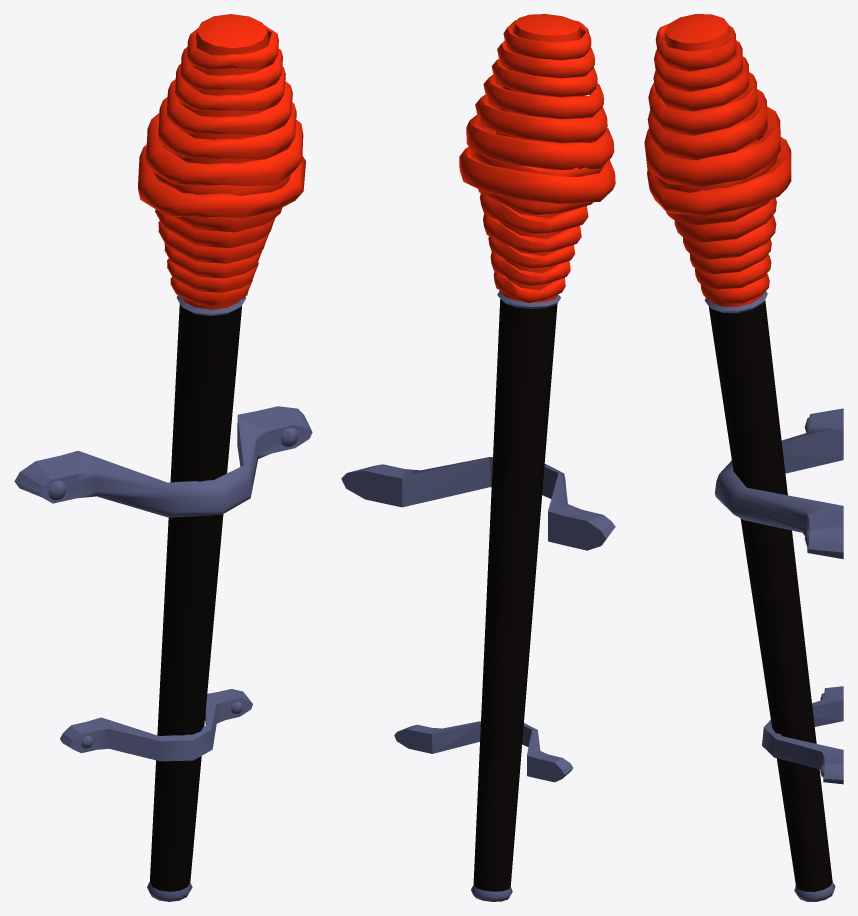
File: TorchWall_10.fbx
The picture shows the model from 3 angles, left to right: view 1: azimuth 30°, elevation 25°; view 2: azimuth 150°, elevation 25°; view 3: azimuth 270°, elevation 25°; orthographic projection. The views are drawn at different scales.
Visible parts, largest first — view 1: TorchWall_10; view 2: TorchWall_10; view 3: TorchWall_10.
Part boxes in pixels (x1,y1,x2,y2): TorchWall_10: [14, 14, 312, 901]; TorchWall_10: [341, 14, 615, 901]; TorchWall_10: [644, 14, 843, 901].
Size of the model in its own units: 20.17 by 12.57 by 60.99.
